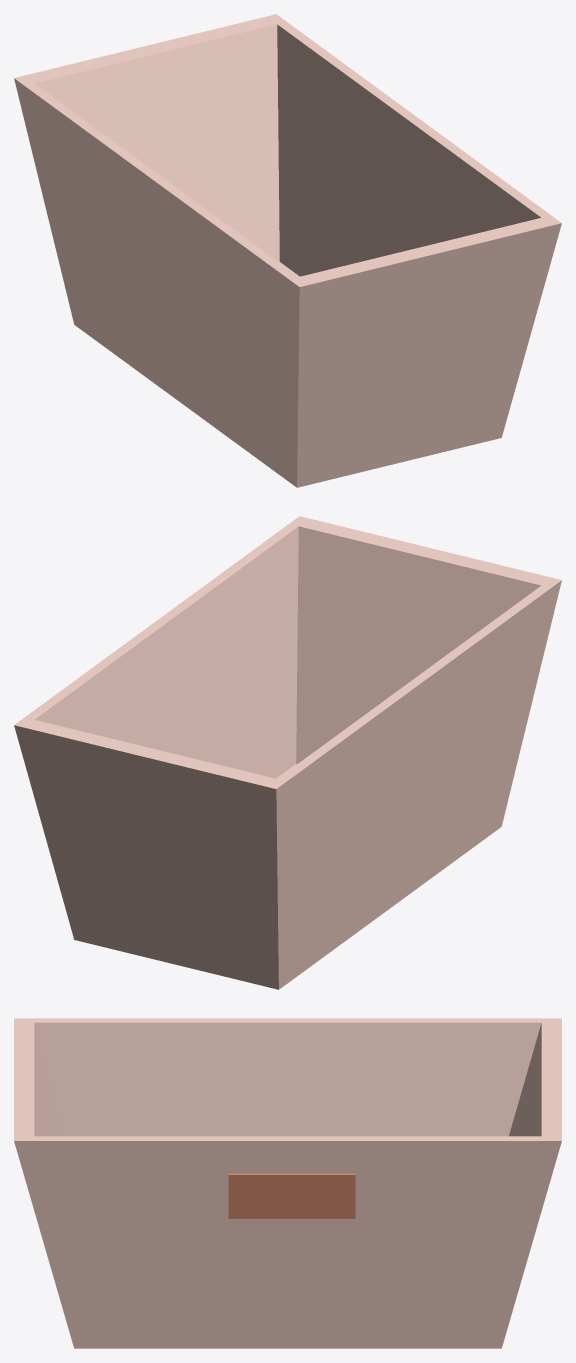
The model's file is Laundry_basket3.fbx.
3 views of the same model, one above another, from view 1: azimuth 30°, elevation 25°; view 2: azimuth 150°, elevation 25°; view 3: azimuth 270°, elevation 25° (orthographic). The views are drawn at different scales.
Visible parts, largest first — view 1: Laundry_basket3; view 2: Laundry_basket3; view 3: Laundry_basket3.
Part boxes in pixels (x1,y1,x2,y2): Laundry_basket3: (14, 14, 561, 487); Laundry_basket3: (14, 516, 561, 989); Laundry_basket3: (14, 1018, 561, 1348).
Size of the model in its own units: 46.48 by 39.05 by 87.63.
